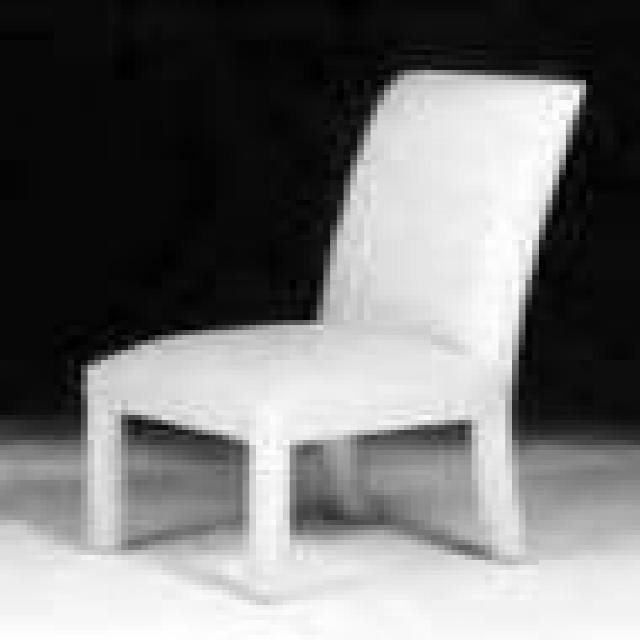chair: (84, 67, 591, 604)
